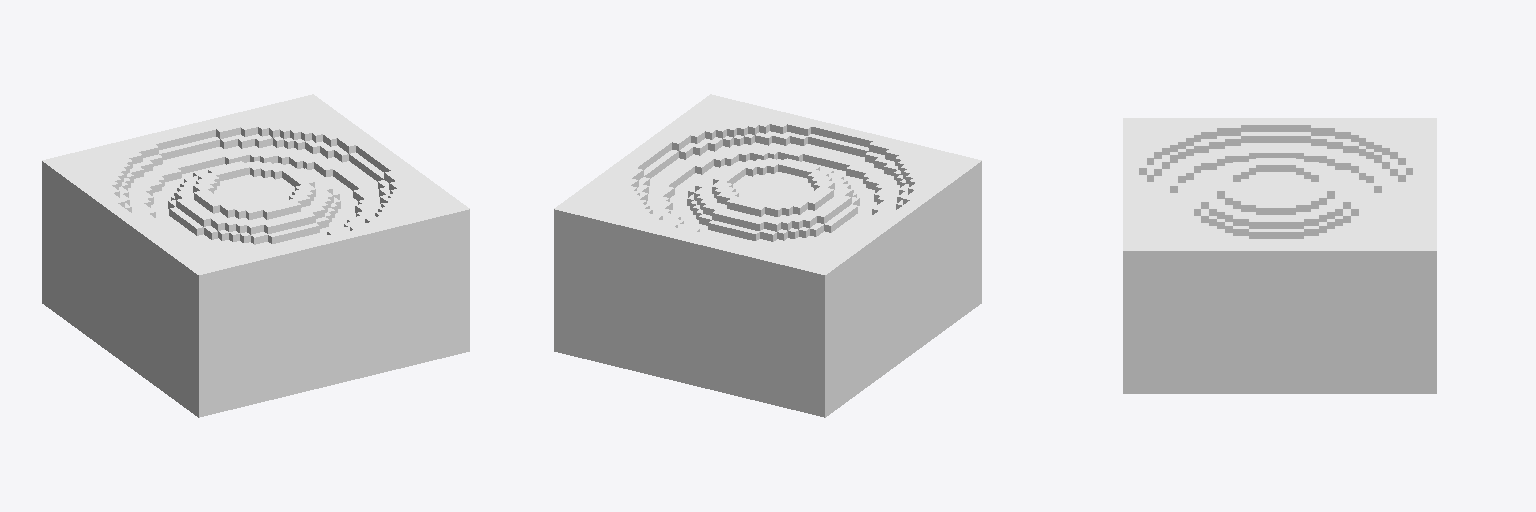
Rendered from ground_plot.obj.
3 renders of one model, left to right at view 1: azimuth 30°, elevation 25°; view 2: azimuth 150°, elevation 25°; view 3: azimuth 270°, elevation 25°, orthographic.
Visible parts, largest first — view 1: ground_plot; view 2: ground_plot; view 3: ground_plot.
Part boxes in pixels (bbox=[...]): ground_plot: bbox=[42, 94, 469, 417]; ground_plot: bbox=[554, 94, 981, 417]; ground_plot: bbox=[1123, 118, 1436, 393].
Size of the model in its own units: 40 by 20 by 40.